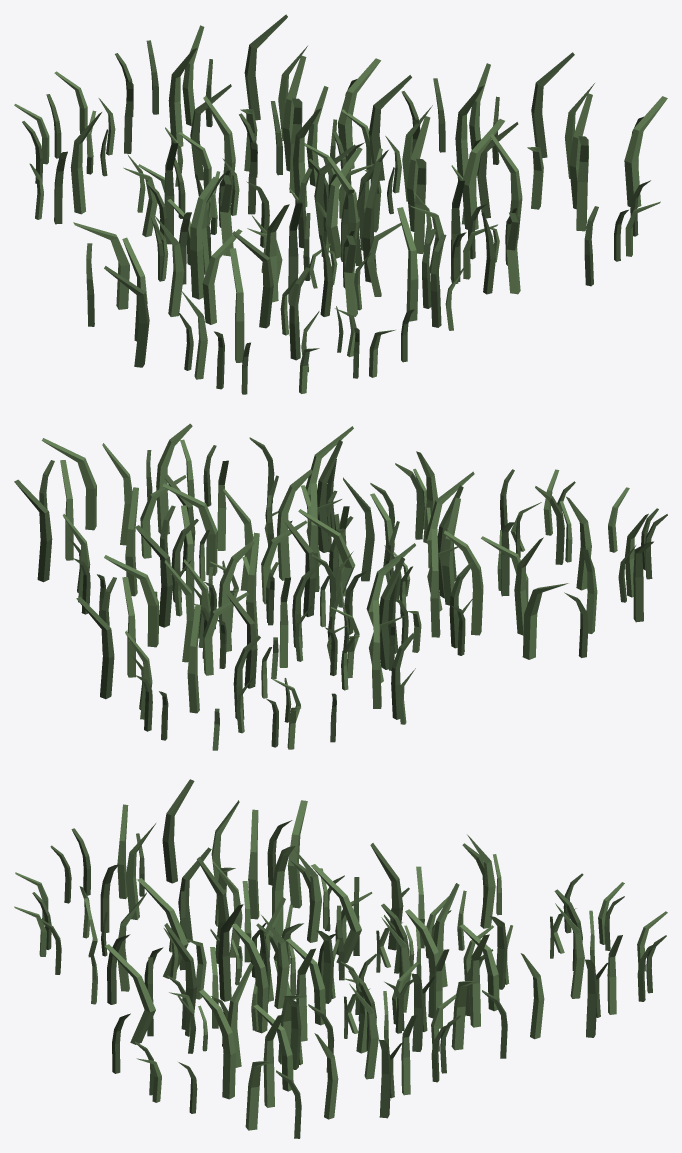
Rendered from grassBigPatches.fbx.
3 renders of one model, top to bottom at view 1: azimuth 30°, elevation 25°; view 2: azimuth 150°, elevation 25°; view 3: azimuth 270°, elevation 25°, orthographic. The views are drawn at different scales.
Parts seen in each view (by area): view 1: patch4(huge), patch3(large); view 2: patch4(huge), patch3(large); view 3: patch4(huge), patch3(large).
Boxes of the visible parts, box(x1,y1,x2,y2) form: patch4(huge): box(14, 14, 667, 394); patch3(large): box(138, 75, 504, 316); patch4(huge): box(14, 423, 667, 750); patch3(large): box(135, 469, 474, 678); patch4(huge): box(14, 779, 667, 1138); patch3(large): box(137, 848, 493, 1072).
Size of the model in its own units: 498 by 89.12 by 499.
